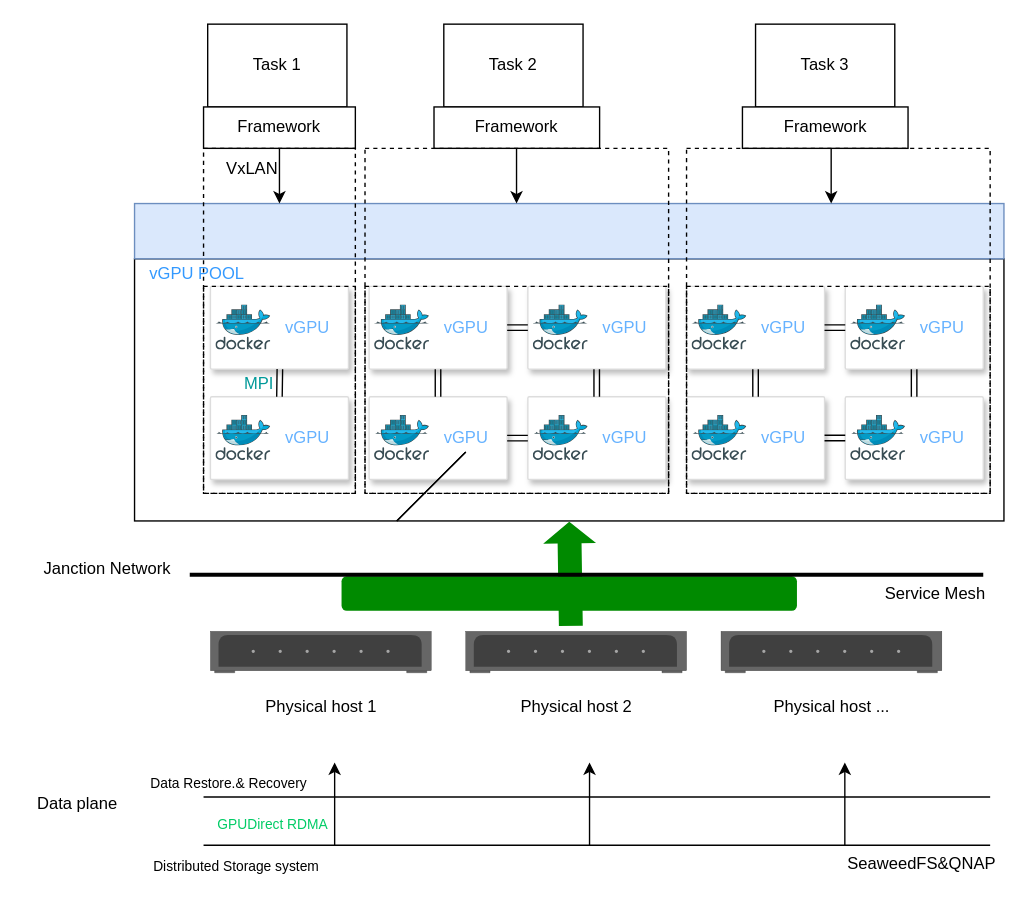
The diagram is 1028 pixels wide and 911 high, and some of its shapes have lost their labels. Each missing label, with the centre of its shape:
"CUDA Driver" belongs at (x=568, y=592).
"Janction Server API" belongs at (x=568, y=230).
